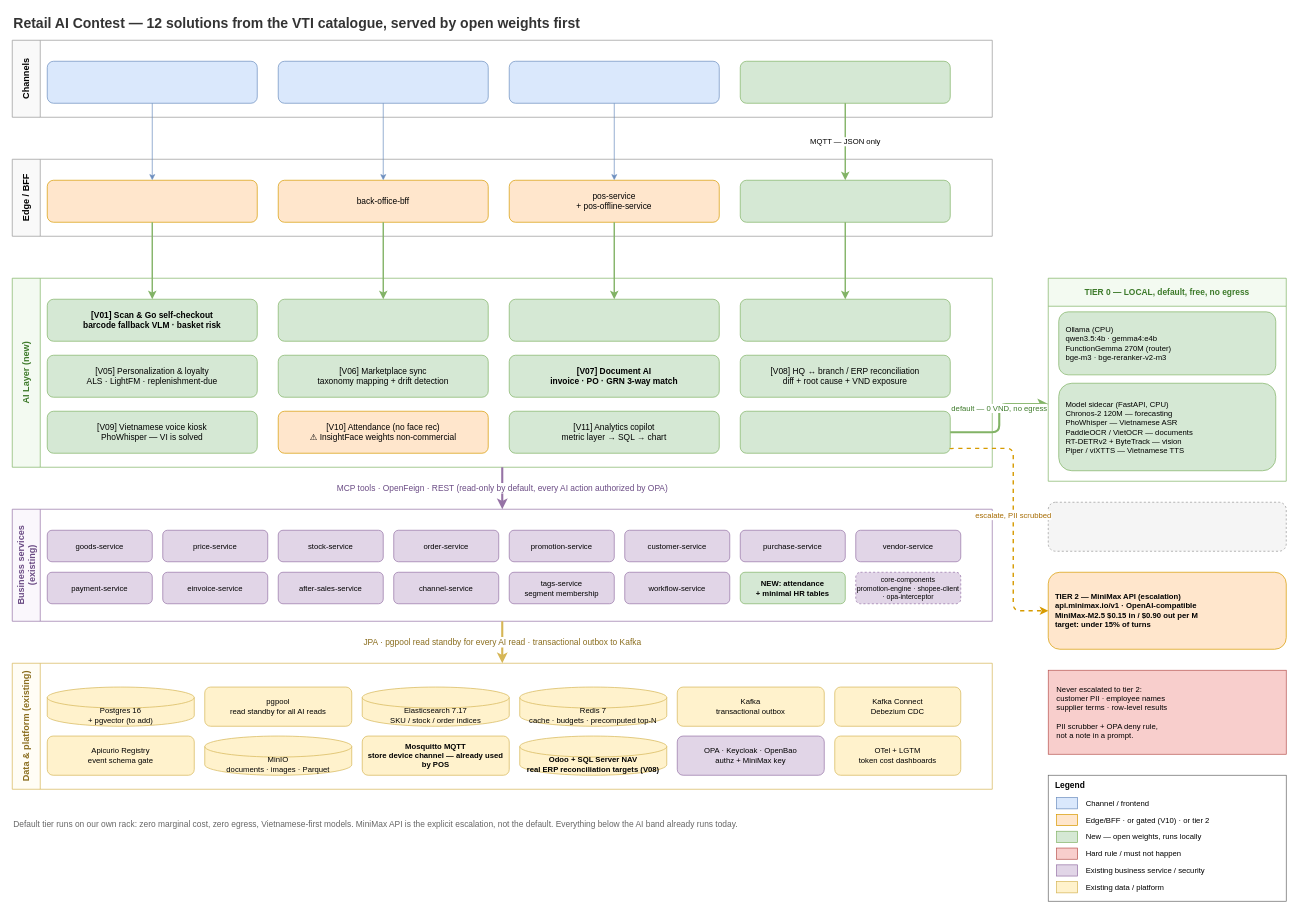
This 1299x914 diagram has some shape labels left out. Each missing label, with the centre of its shape:
"[V02] AI staff scheduling Chronos-2 → OR-Tools CP-SAT" goes at [383,320].
"[V03] Demand forecast Chronos-2 zero-shot + covariates" goes at [614,320].
"[V04] Edge AI box shelf gap · queue · heatmap · plate" goes at [845,320].
"[V12] 3-tier model gateway route · budget · scrub PII · meter" goes at [845,432].
"Back-office Angular SPA — buyer · AP · manager" goes at [383,82].
"ecommerce-bff" goes at [152,201].
"MQTT → Kafka bridge metadata only — video never leaves the store" goes at [845,201].
"POS + voice kiosk Angular + Electron · push-to-talk mic" goes at [614,82].
"Store edge box ~$150-300 camera · RT-DETRv2 + ByteTrack on-device" goes at [845,82].
"Storefront + Scan&Go PWA Angular SSR · shopper phone camera" goes at [152,82].
"TIER 1 — self-hosted vLLM 14–30B documented only · no GPU today" goes at [1167,526].
